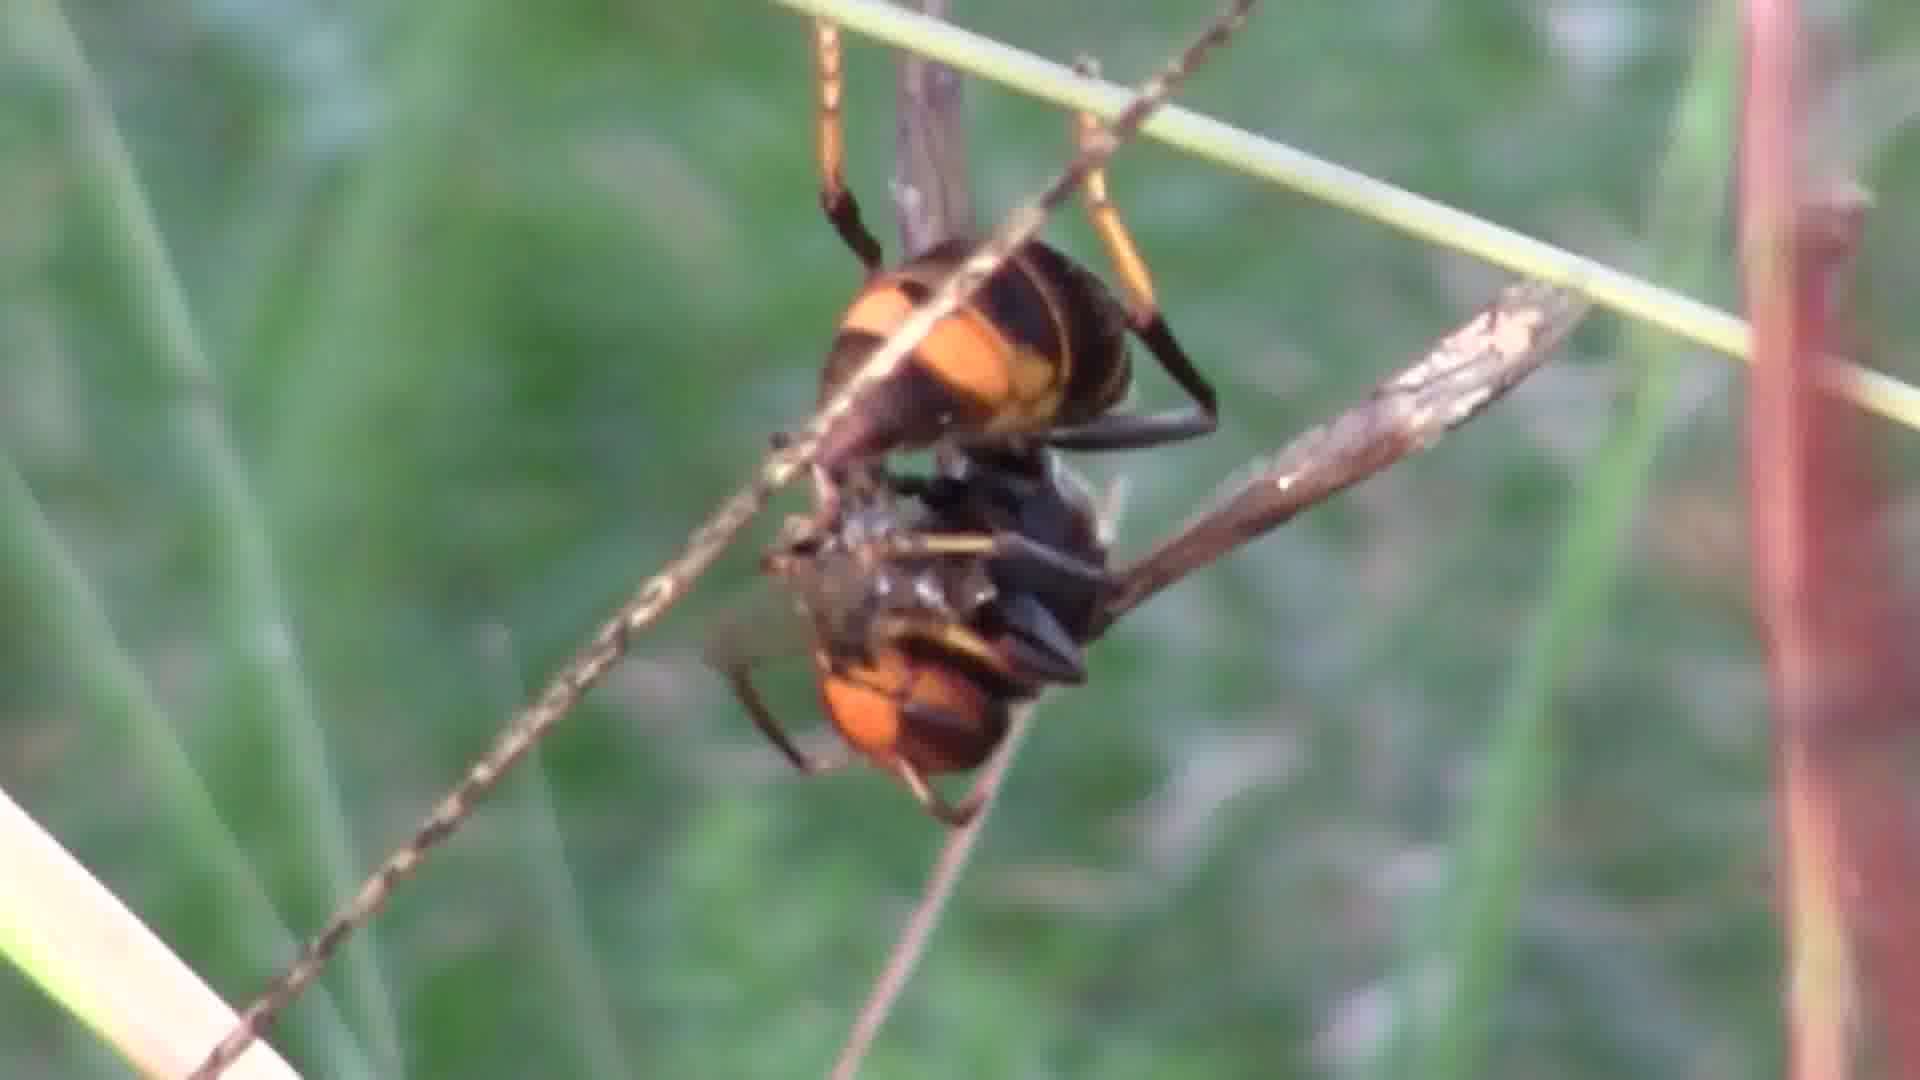hornet: (711, 11, 1220, 882)
